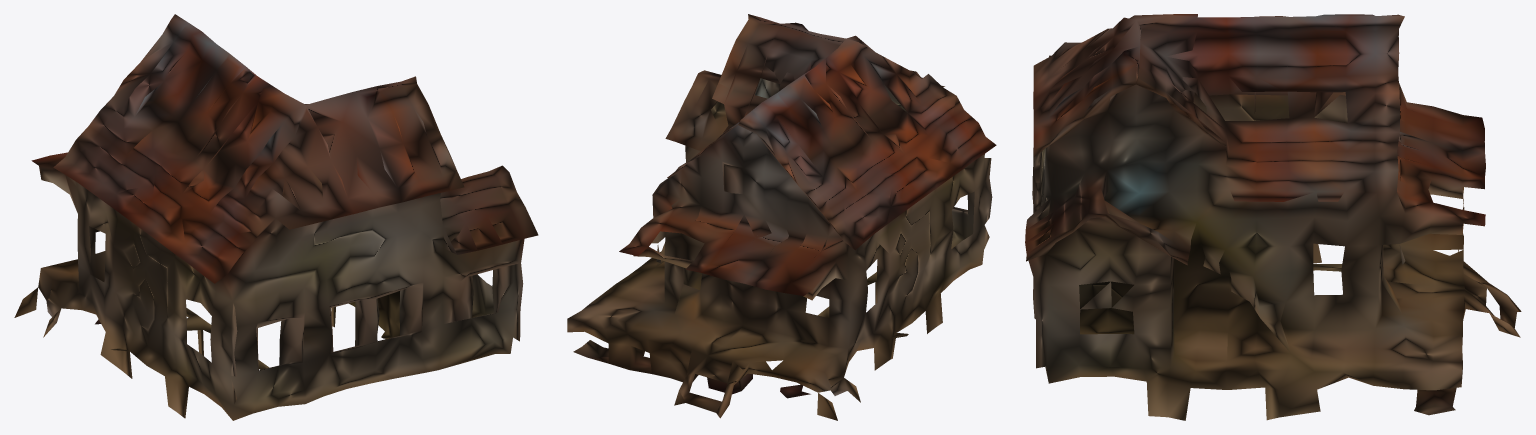
File: rusty.glb
3 renders of one model, left to right at view 1: azimuth 30°, elevation 25°; view 2: azimuth 150°, elevation 25°; view 3: azimuth 270°, elevation 25°, orthographic. The views are drawn at different scales.
Visible parts, largest first — view 1: house_rusty; view 2: house_rusty; view 3: house_rusty.
Part boxes in pixels (box(x1,y1,x2,y2)): house_rusty: box(14, 14, 538, 420); house_rusty: box(567, 14, 996, 420); house_rusty: box(1025, 14, 1521, 420).
Size of the model in its own units: 8.43 by 7.35 by 10.46.
